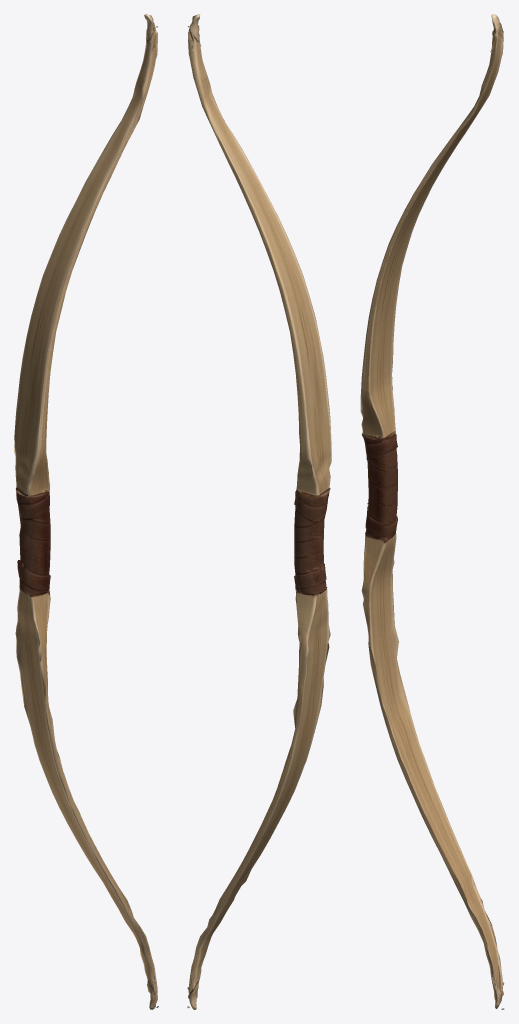
The model's file is weapon_bow.glb.
The picture shows the model from 3 angles, left to right: view 1: azimuth 30°, elevation 25°; view 2: azimuth 150°, elevation 25°; view 3: azimuth 330°, elevation 25°; orthographic projection.
Size of the model in its own units: 0.1401 by 0.9507 by 0.0405.
Materials: 1 (1 with a texture image).
